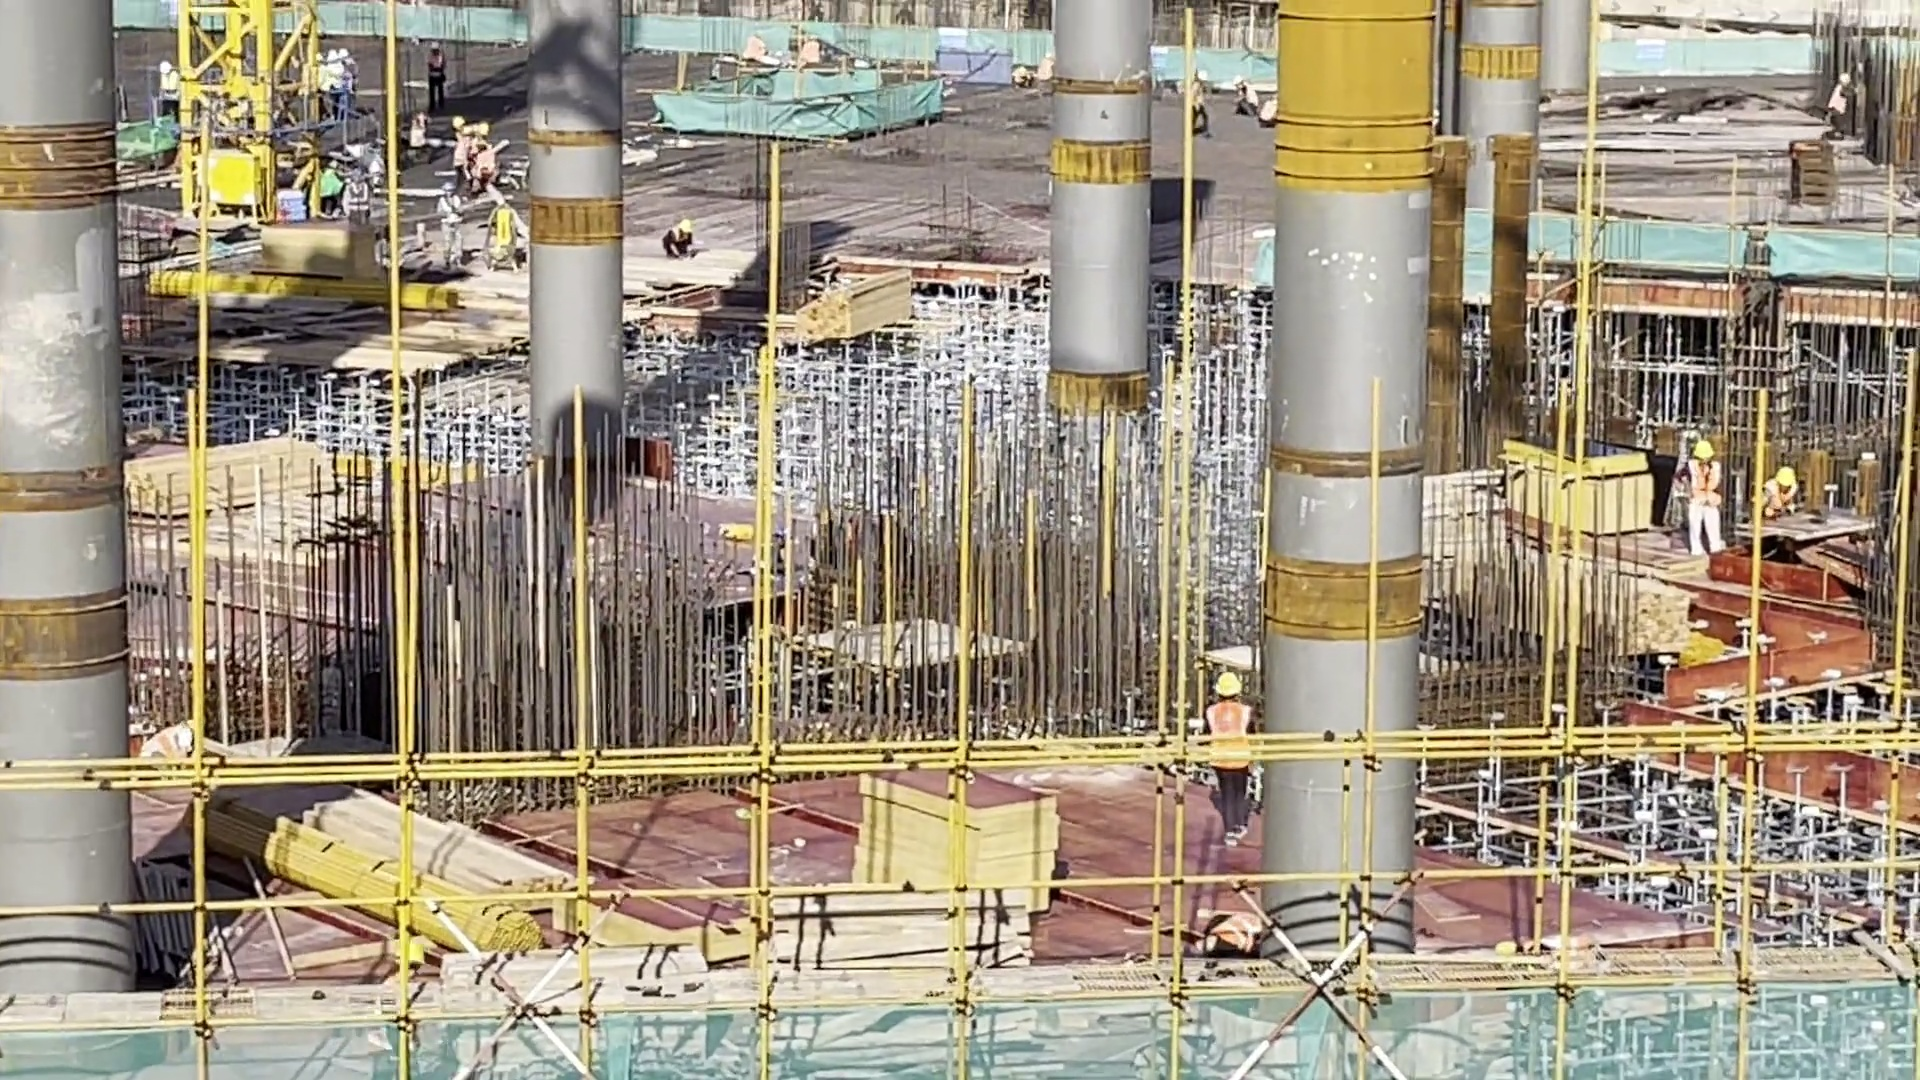helmet: (1214, 672, 1244, 699), (1773, 463, 1797, 495), (1692, 434, 1715, 460), (678, 216, 695, 233)
person: (1209, 663, 1268, 861), (1190, 897, 1284, 1006), (1676, 436, 1737, 556), (134, 711, 216, 798), (1754, 459, 1818, 534), (484, 195, 529, 274), (1180, 72, 1223, 134), (657, 214, 705, 262), (422, 34, 448, 120), (319, 156, 347, 226), (455, 117, 476, 197), (475, 119, 494, 201), (344, 43, 367, 113), (156, 60, 180, 126), (329, 47, 347, 130), (1256, 87, 1294, 127), (1230, 70, 1259, 120), (312, 51, 329, 118)
vest: (1203, 908, 1273, 965), (1206, 697, 1252, 779), (1677, 458, 1728, 513), (349, 181, 369, 213), (321, 169, 343, 198)
